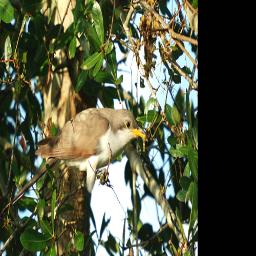Cuckoo: (33, 104, 149, 214)
